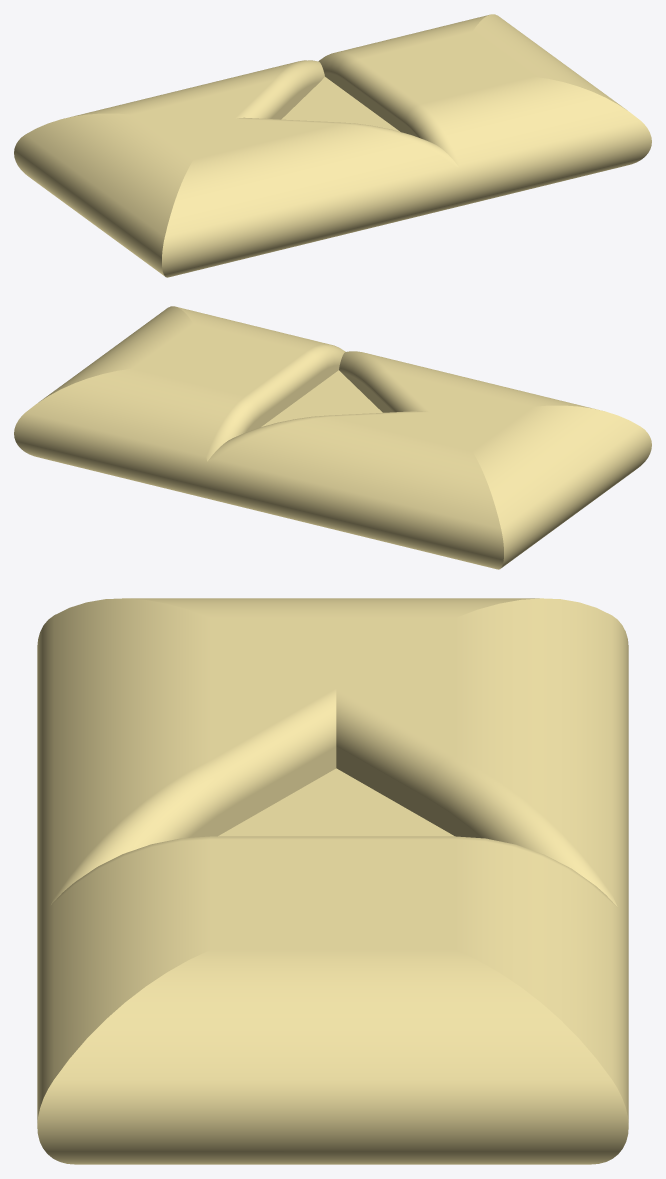
The model's file is gold.gltf.
3 renders of one model, top to bottom at view 1: azimuth 30°, elevation 25°; view 2: azimuth 150°, elevation 25°; view 3: azimuth 270°, elevation 25°, orthographic. The views are drawn at different scales.
Parts seen in each view (by area): view 1: _Unsaved_; view 2: _Unsaved_; view 3: _Unsaved_.
Boxes of the visible parts, x1,y1,x2,y2 form: _Unsaved_: (14, 14, 651, 277); _Unsaved_: (14, 306, 651, 569); _Unsaved_: (37, 598, 628, 1164).
Bounding box in the file's own units: 9.42 × 1.5 × 4.92.
